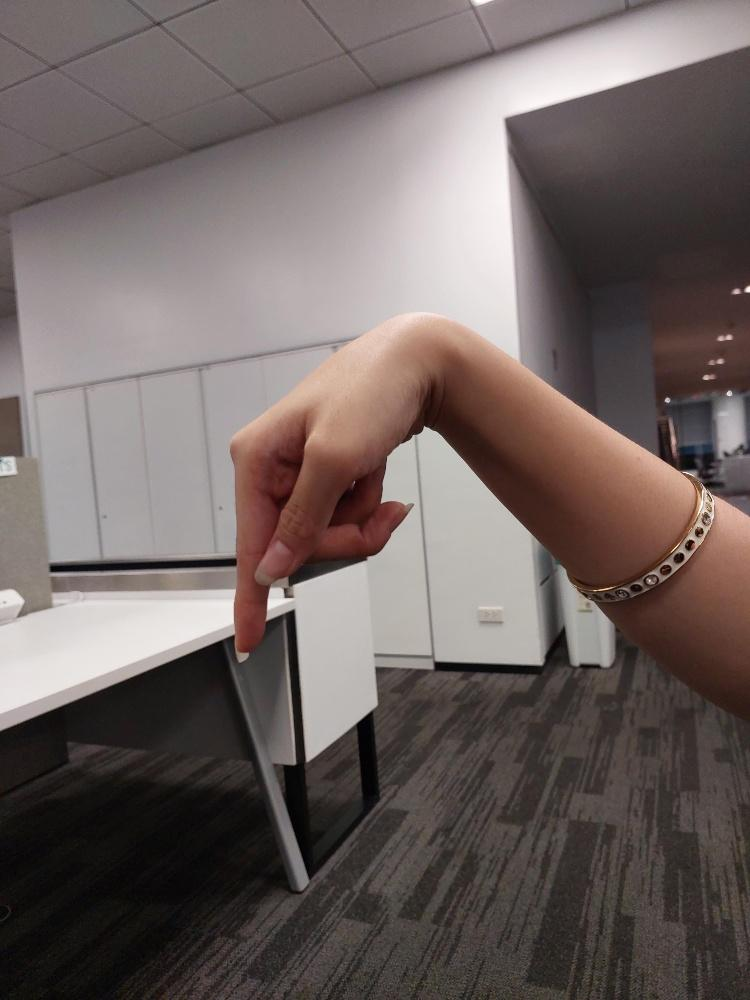p: (229, 306, 466, 669)
